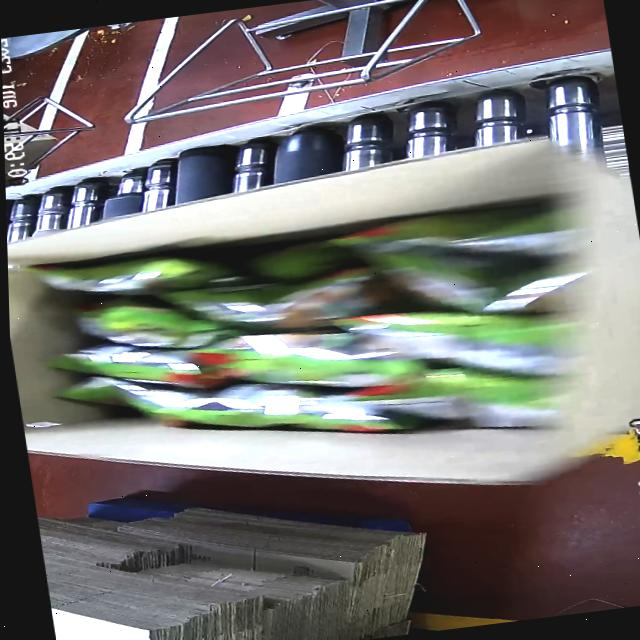YOGURT_HERB: (29, 209, 566, 482)
